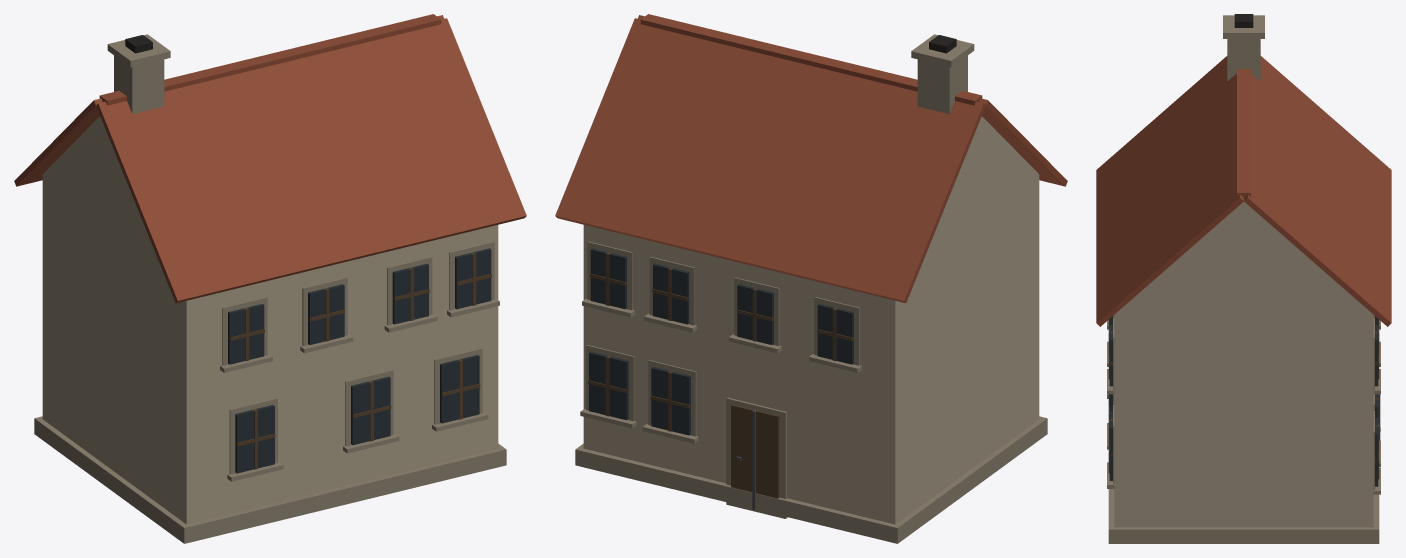
File: house_normandy_s.glb
3 renders of one model, left to right at view 1: azimuth 30°, elevation 25°; view 2: azimuth 150°, elevation 25°; view 3: azimuth 270°, elevation 25°, orthographic. The views are drawn at different scales.
Visible parts, largest first — view 1: house_normandy_s; view 2: house_normandy_s; view 3: house_normandy_s.
Part boxes in pixels (x1=…): house_normandy_s: x1=14, y1=14, x2=526, y2=543; house_normandy_s: x1=555, y1=14, x2=1067, y2=543; house_normandy_s: x1=1096, y1=14, x2=1391, y2=543.
Size of the model in its own units: 7.84 by 9.56 by 6.37.
